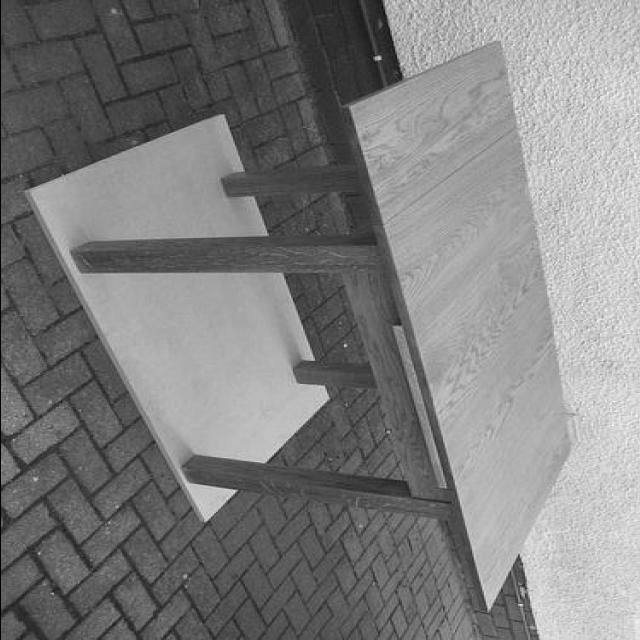table: (73, 42, 572, 614)
